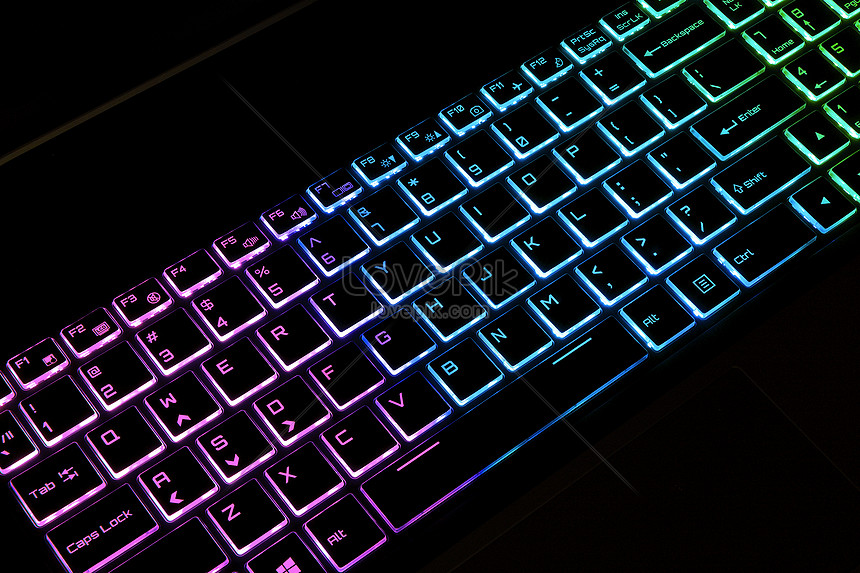keyboard: (12, 17, 857, 548)
